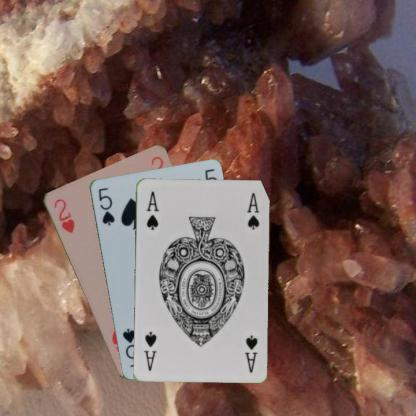2h: (51, 196, 76, 234)
5s: (96, 184, 116, 226)
As: (143, 188, 159, 231), (242, 332, 258, 373)
